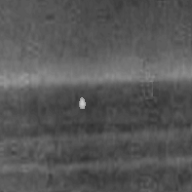Target: (77, 96, 87, 110)
